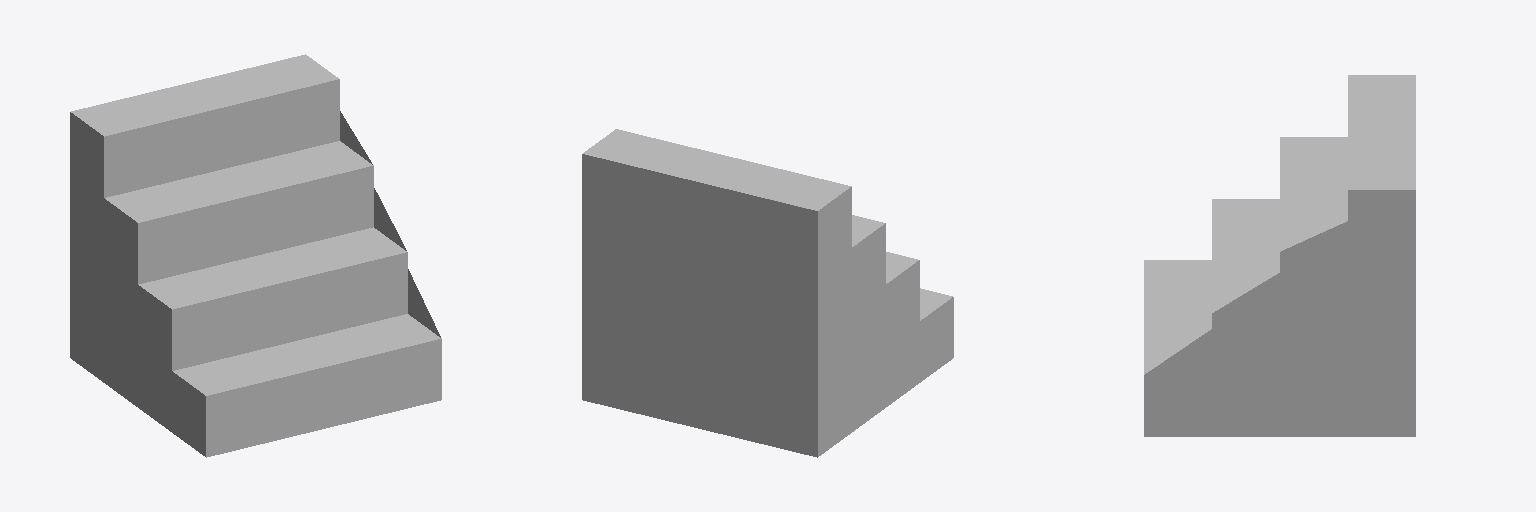
The model's file is Stairs.obj.
3 views of the same model, side by side, from view 1: azimuth 30°, elevation 25°; view 2: azimuth 150°, elevation 25°; view 3: azimuth 270°, elevation 25° (orthographic).
Parts seen in each view (by area): view 1: Cube_Cube.001; view 2: Cube_Cube.001; view 3: Cube_Cube.001.
Part boxes in pixels (x1,y1,x2,y2): Cube_Cube.001: (70, 54, 441, 457); Cube_Cube.001: (582, 129, 953, 457); Cube_Cube.001: (1144, 75, 1415, 436).
Bounding box in the file's own units: 8 × 8 × 8.